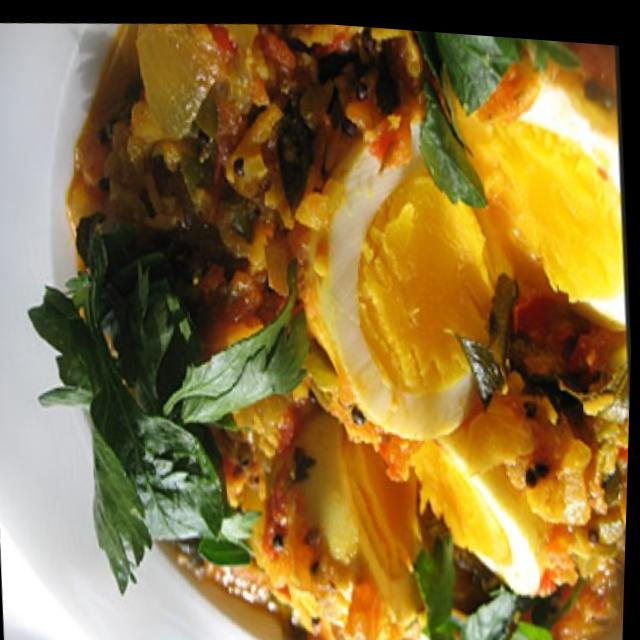EGG: (235, 32, 628, 640)
